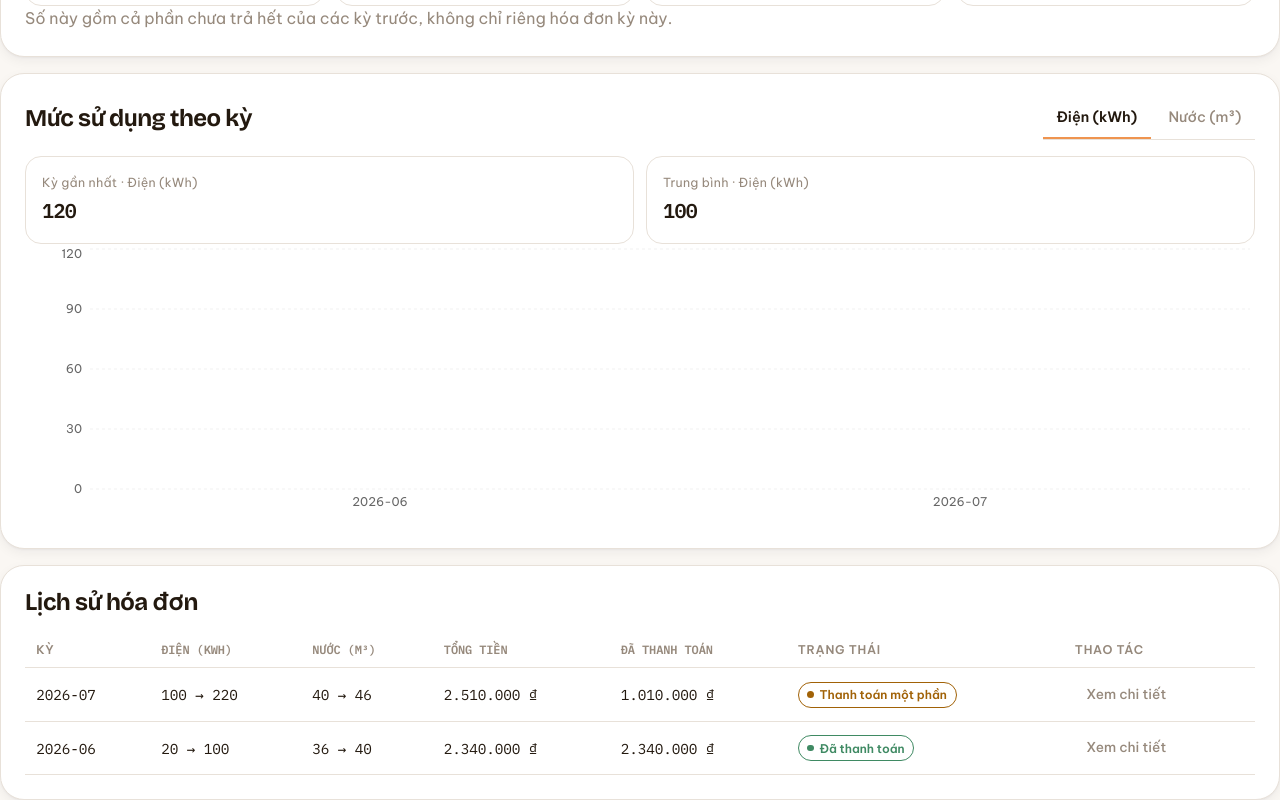
TenantPortal invoice history › closes the modal again
(page scrolled)
Expected: the heading "Lịch sử hóa đơn" is shown, left=25, top=590, right=198, bottom=616
Expected: the table is shown, left=25, top=632, right=1255, bottom=775
Click the button "Xem chi tiết" in the row of "100 → 220" at (1126, 695), box left=1075, top=678, right=1178, bottom=711
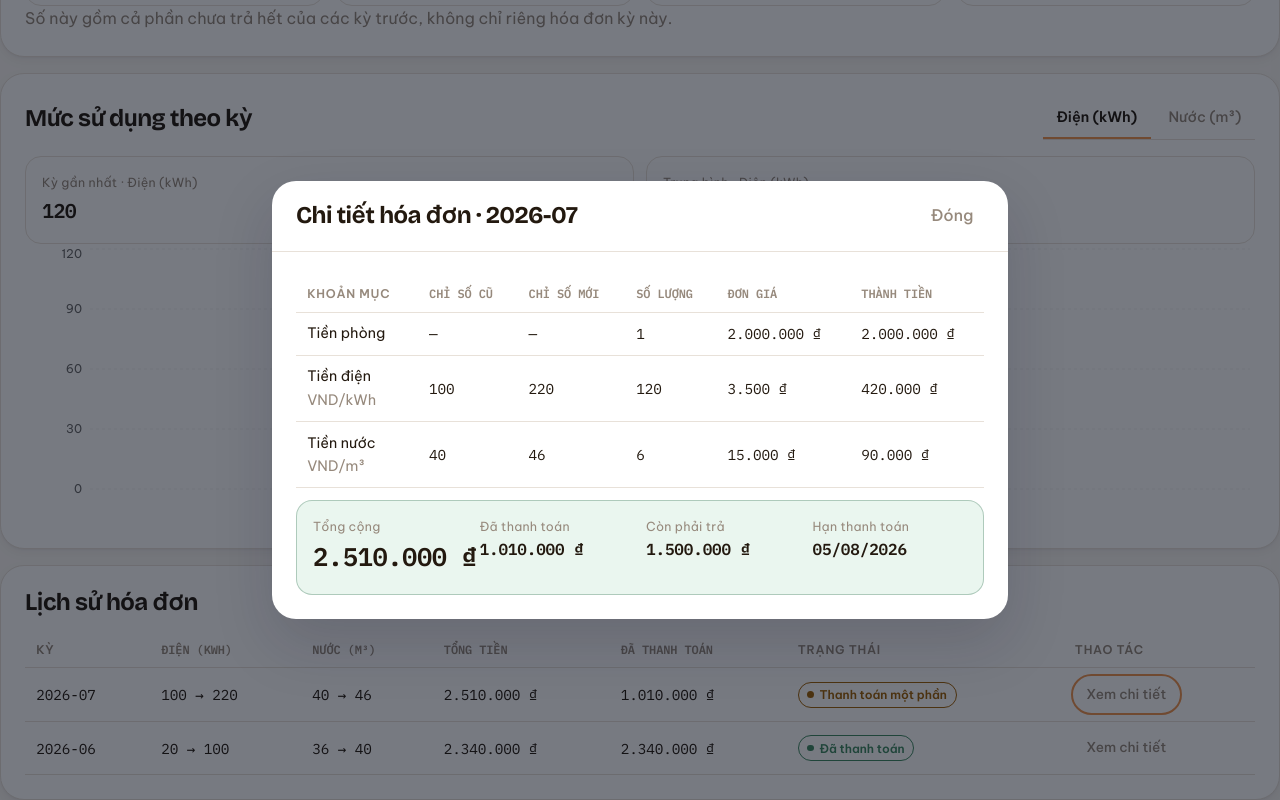
Click the button "Đóng" at (952, 216), box left=920, top=197, right=984, bottom=236
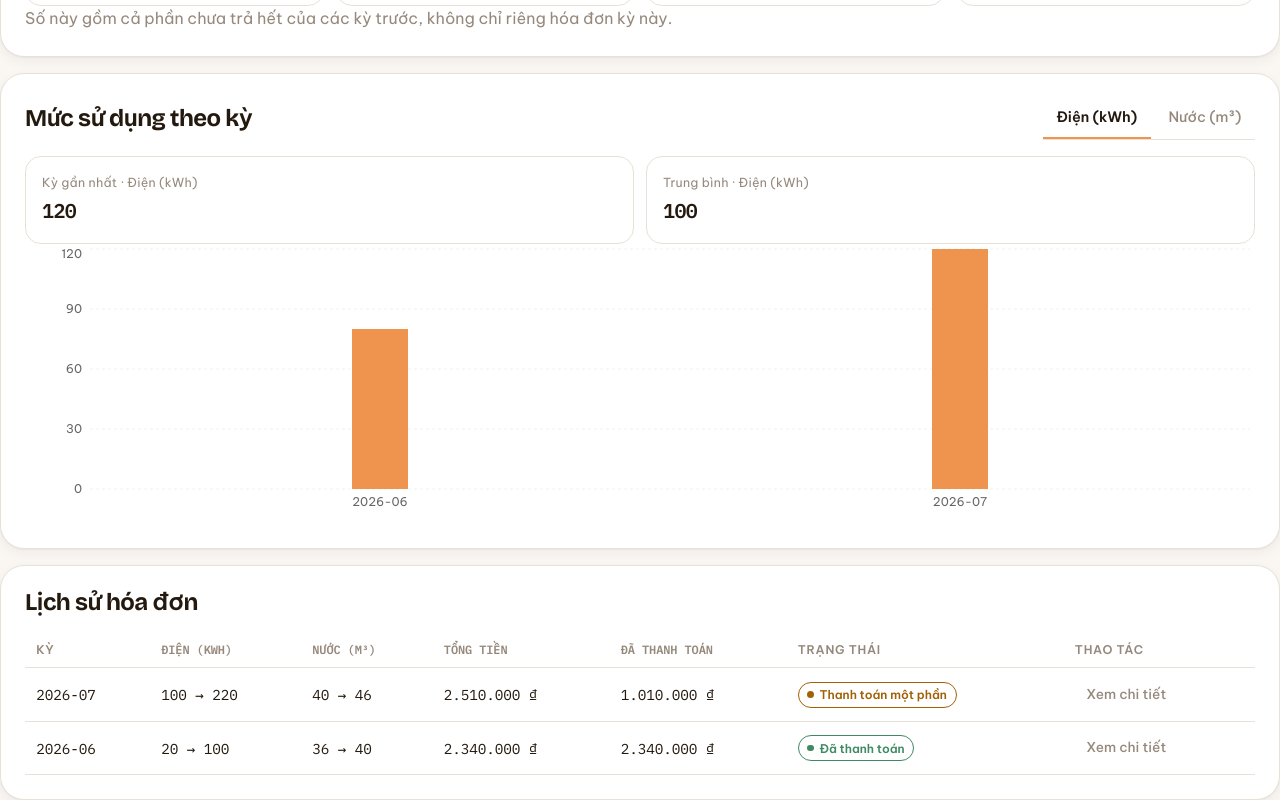
Expected: the dialog is gone
